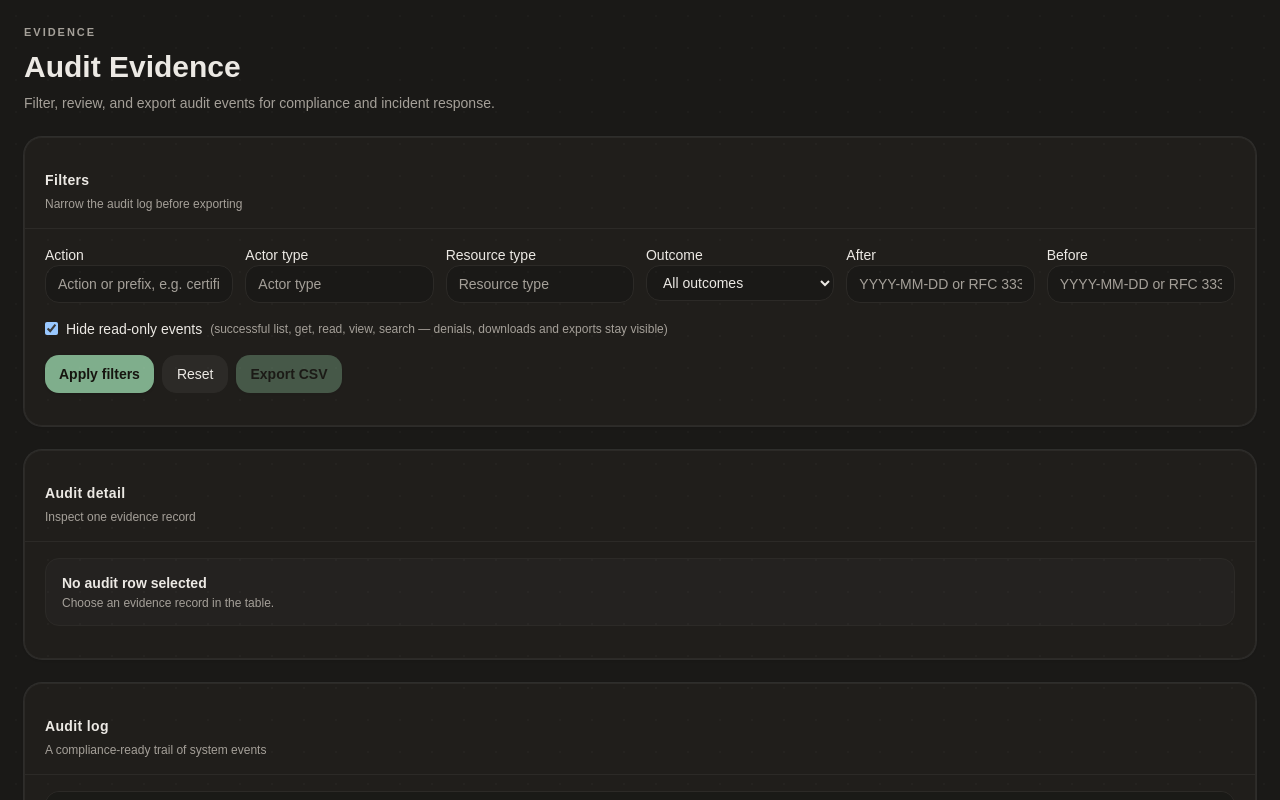
Audit page › empty table says no entries yet unfiltered and 'match these filters' when filtered (CB-05)
In the field named "Filter audit action": (139, 284) [45,264,233,302], type "certificate"
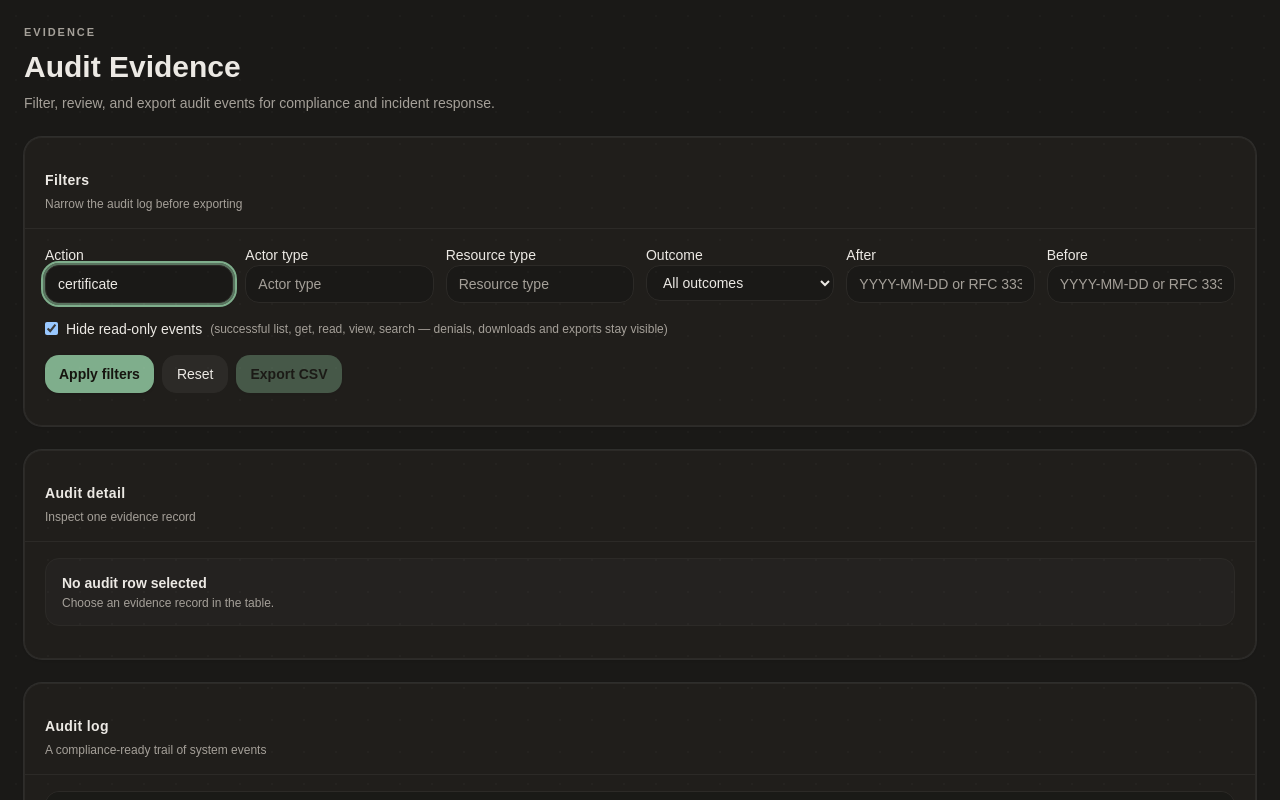
Click the button "Apply filters": (99, 374) [45,354,154,392]
(page scrolled)
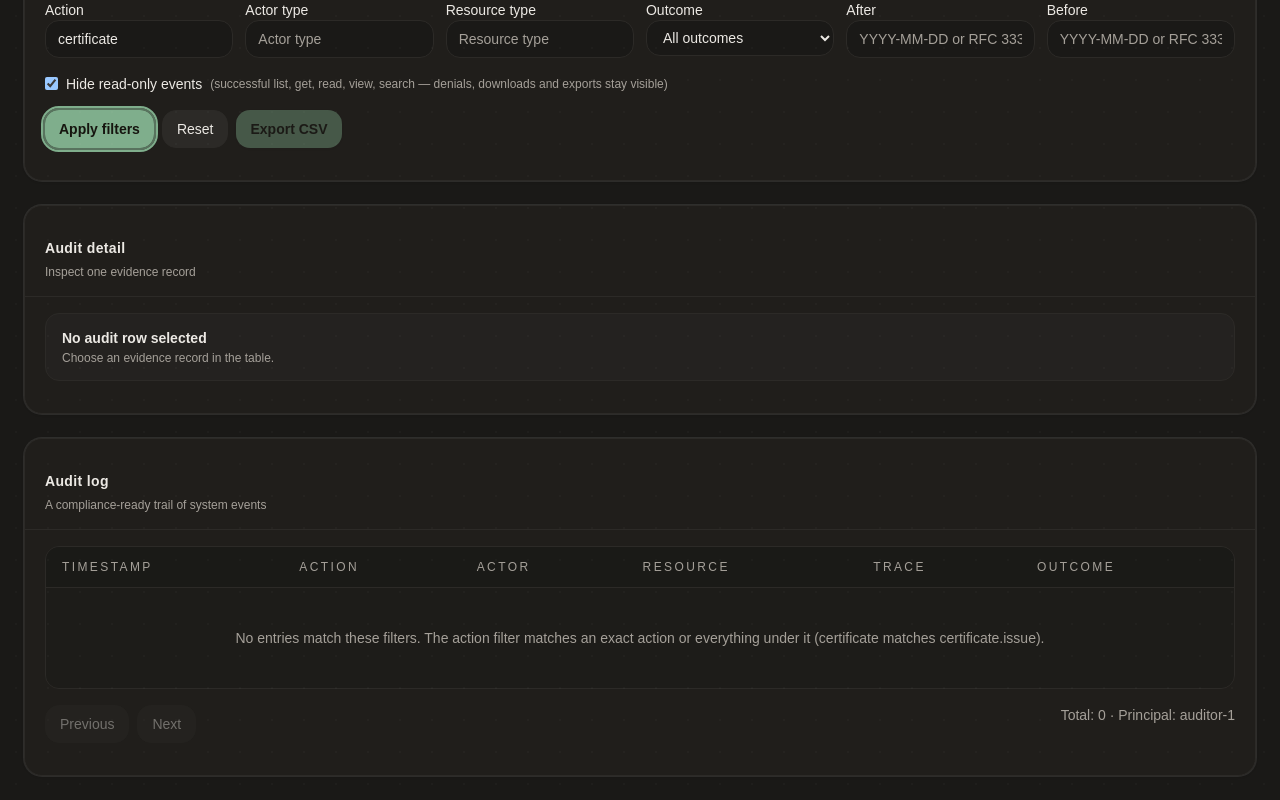
Expected: the text "No entries match these filters" is shown, [236,630,1044,646]
